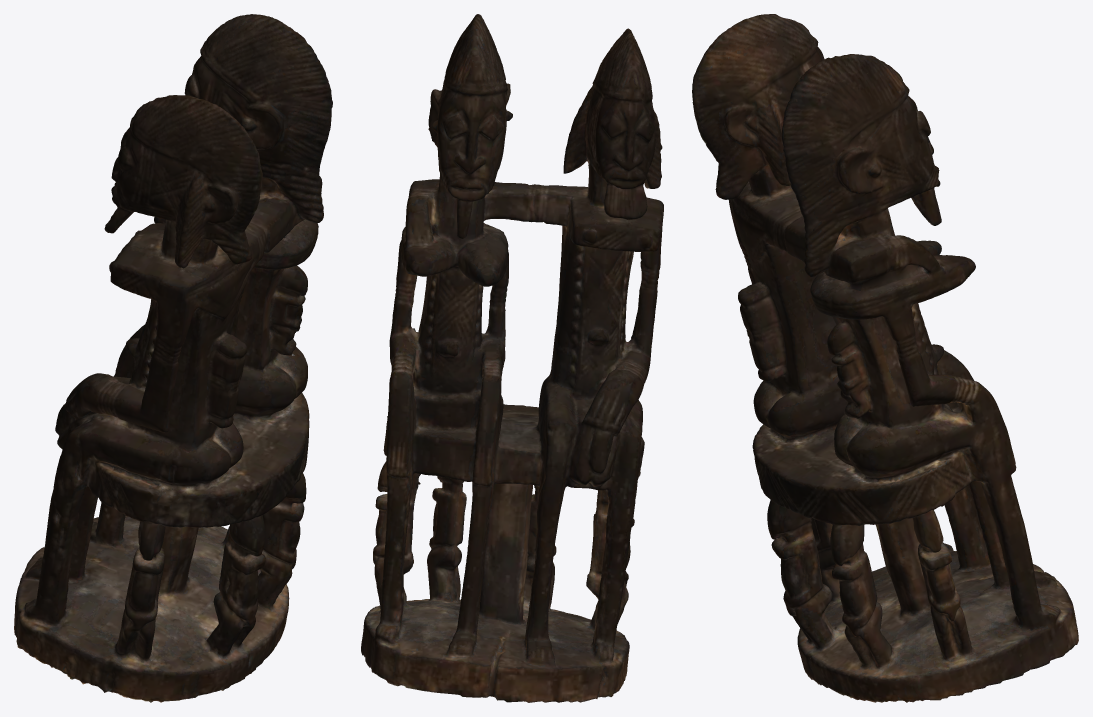
Rendered from preview.glb.
The picture shows the model from 3 angles, left to right: view 1: azimuth 30°, elevation 25°; view 2: azimuth 150°, elevation 25°; view 3: azimuth 270°, elevation 25°; orthographic projection. The views are drawn at different scales.
Parts seen in each view (by area): view 1: Object_2; view 2: Object_2; view 3: Object_2.
Boxes of the visible parts, <box> form: Object_2: <box>14,14,332,702</box>; Object_2: <box>361,14,663,702</box>; Object_2: <box>692,14,1078,702</box>.
Bounding box in the file's own units: 266 × 641 × 346.
Materials: 1 (1 with a texture image).
